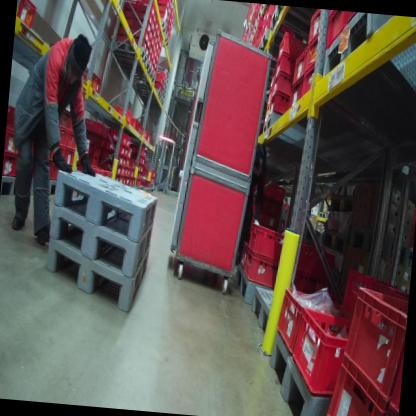pallet: (47, 161, 160, 252), (42, 220, 154, 310), (47, 205, 158, 273), (261, 113, 312, 153), (269, 5, 316, 44), (28, 172, 66, 205), (111, 39, 148, 66), (255, 30, 285, 63), (2, 167, 30, 199), (117, 56, 154, 77), (131, 83, 163, 101), (129, 70, 155, 84), (156, 65, 172, 79), (164, 35, 171, 50), (160, 97, 166, 108), (164, 77, 170, 88), (162, 85, 167, 96), (164, 81, 169, 92), (162, 93, 167, 102)
small_load_carrier: (334, 278, 409, 415), (285, 307, 358, 404), (274, 285, 343, 360), (337, 268, 410, 333), (326, 352, 391, 416), (244, 218, 291, 264), (243, 248, 289, 291), (293, 241, 338, 282), (386, 337, 405, 416), (245, 189, 287, 221), (27, 131, 67, 164), (323, 12, 348, 52), (276, 30, 301, 64), (292, 38, 310, 85), (306, 32, 326, 74), (288, 71, 308, 111), (79, 63, 105, 93), (254, 177, 287, 200), (298, 67, 322, 98), (7, 106, 31, 137), (5, 122, 28, 152), (306, 10, 326, 44), (275, 50, 296, 82), (272, 69, 294, 98), (17, 0, 38, 30), (268, 91, 291, 118), (46, 124, 69, 146), (103, 137, 126, 158), (58, 105, 74, 133), (3, 150, 20, 176), (110, 105, 133, 124), (83, 120, 107, 138), (108, 127, 129, 147), (126, 34, 148, 53), (236, 239, 249, 271), (378, 400, 400, 416), (100, 158, 122, 174), (84, 131, 103, 149), (135, 17, 152, 36), (43, 159, 60, 178), (101, 153, 125, 166), (137, 2, 155, 18), (131, 26, 150, 40), (117, 7, 137, 19), (130, 142, 145, 158), (114, 15, 133, 27), (68, 113, 79, 133), (264, 4, 276, 22), (137, 9, 154, 21), (64, 146, 76, 163), (263, 100, 271, 125), (262, 15, 273, 33), (130, 115, 141, 133), (66, 133, 78, 147), (87, 155, 98, 170), (115, 25, 133, 34), (125, 0, 141, 10), (130, 152, 143, 164), (88, 145, 102, 156), (156, 2, 168, 14), (115, 34, 130, 43), (154, 75, 164, 88), (121, 147, 131, 160), (156, 10, 167, 21), (154, 80, 164, 92), (139, 123, 146, 140), (142, 179, 152, 190), (126, 148, 134, 160), (157, 0, 170, 7), (158, 69, 166, 80), (121, 163, 127, 177), (125, 174, 131, 188), (149, 27, 155, 40), (145, 133, 152, 144), (148, 44, 154, 56), (151, 19, 156, 33), (152, 10, 157, 24), (126, 136, 131, 150), (126, 160, 133, 170), (144, 165, 151, 175), (156, 27, 162, 38), (150, 169, 157, 178), (145, 47, 150, 59), (119, 172, 124, 184), (136, 163, 141, 175), (150, 36, 155, 48), (149, 177, 156, 185), (153, 28, 157, 42), (147, 37, 151, 50), (129, 177, 134, 185), (166, 12, 170, 21), (136, 172, 140, 181), (130, 170, 135, 177), (164, 18, 167, 29), (169, 0, 173, 8), (123, 177, 127, 185), (168, 6, 171, 15), (131, 164, 135, 170), (135, 180, 138, 188)
